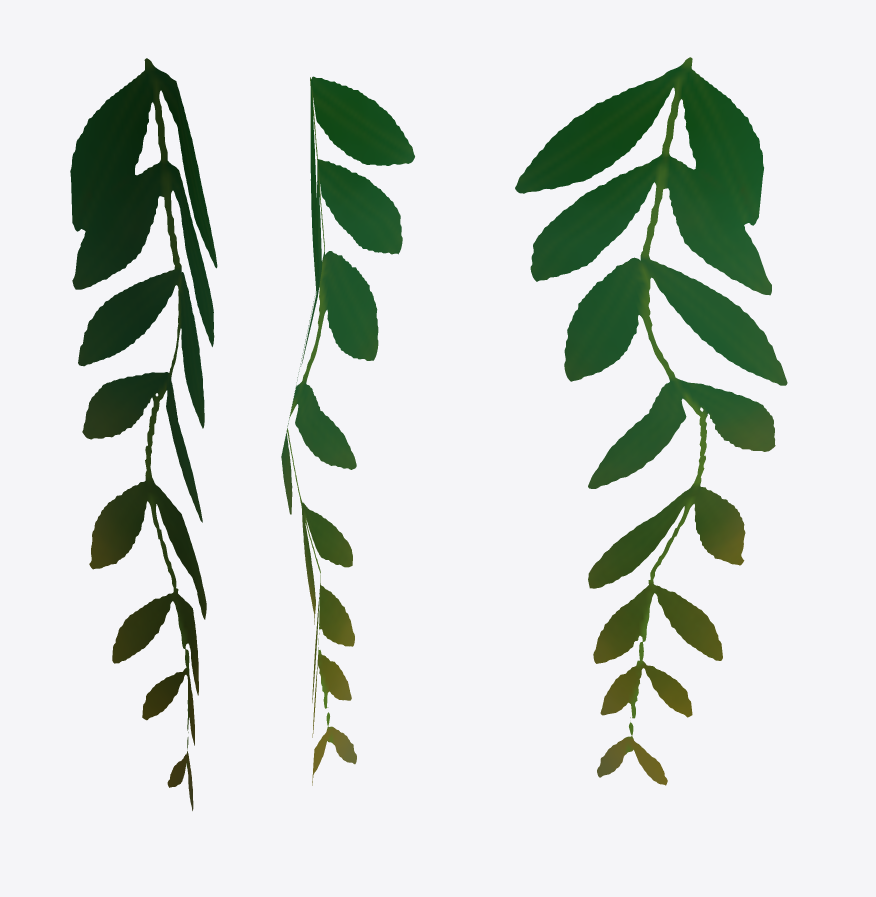
The model's file is Prop_DriedFlower_03.fbx.
3 views of the same model, side by side, from view 1: azimuth 30°, elevation 25°; view 2: azimuth 150°, elevation 25°; view 3: azimuth 270°, elevation 25° (orthographic).
Visible parts, largest first — view 1: pPlane40; view 2: pPlane40; view 3: pPlane40.
Part boxes in pixels (x1,y1,x2,y2): pPlane40: (70, 58, 217, 810); pPlane40: (281, 76, 414, 785); pPlane40: (515, 57, 787, 785).
Bounding box in the file's own units: 7.35 × 83.15 × 34.14.
